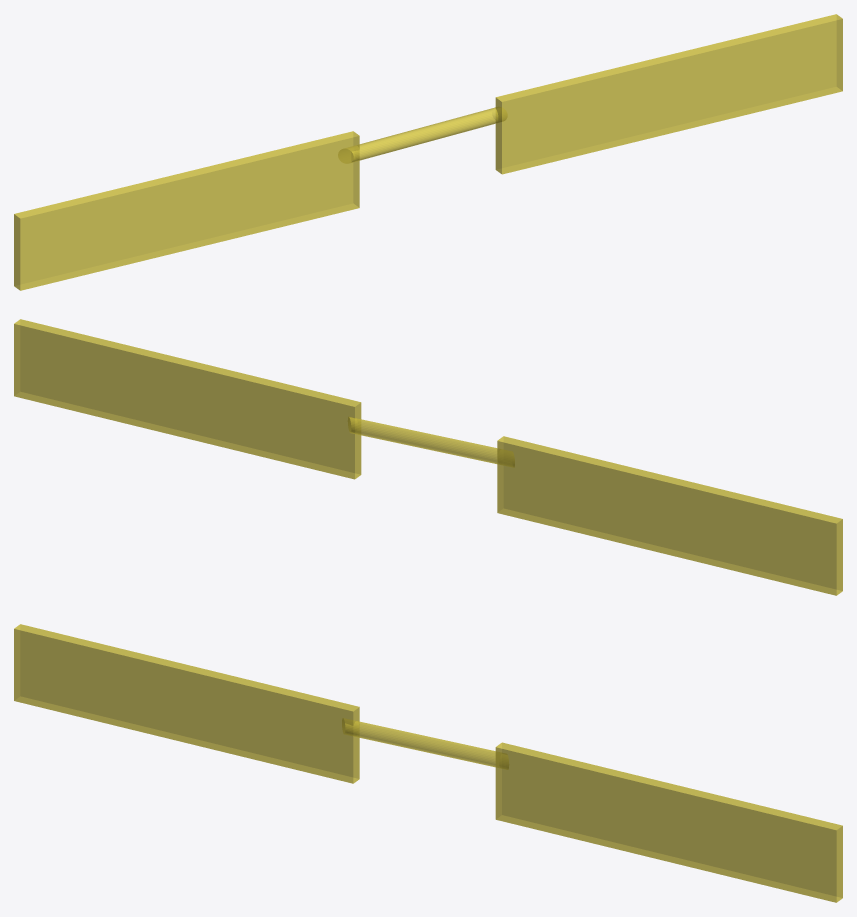
File: glasses.fbx
3 views of the same model, one above another, from view 1: azimuth 30°, elevation 25°; view 2: azimuth 150°, elevation 25°; view 3: azimuth 330°, elevation 25° (orthographic).
Visible parts, largest first — view 1: Cube.001; view 2: Cube.001; view 3: Cube.001.
Part boxes in pixels (left/top/right/bottom): Cube.001: left=14, top=14, right=842, bottom=290; Cube.001: left=14, top=319, right=842, bottom=595; Cube.001: left=14, top=624, right=842, bottom=902.
Bounding box in the file's own units: 79.74 × 6.8 × 1.85.
